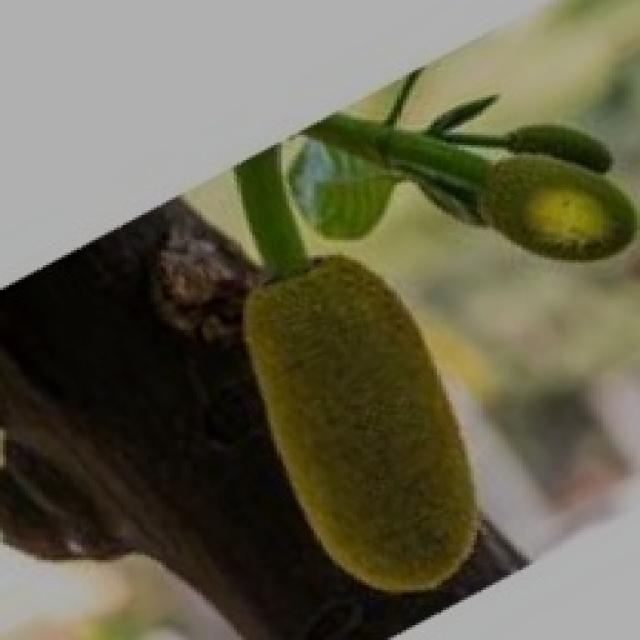Fruit: (197, 222, 526, 628), (440, 102, 640, 290)
